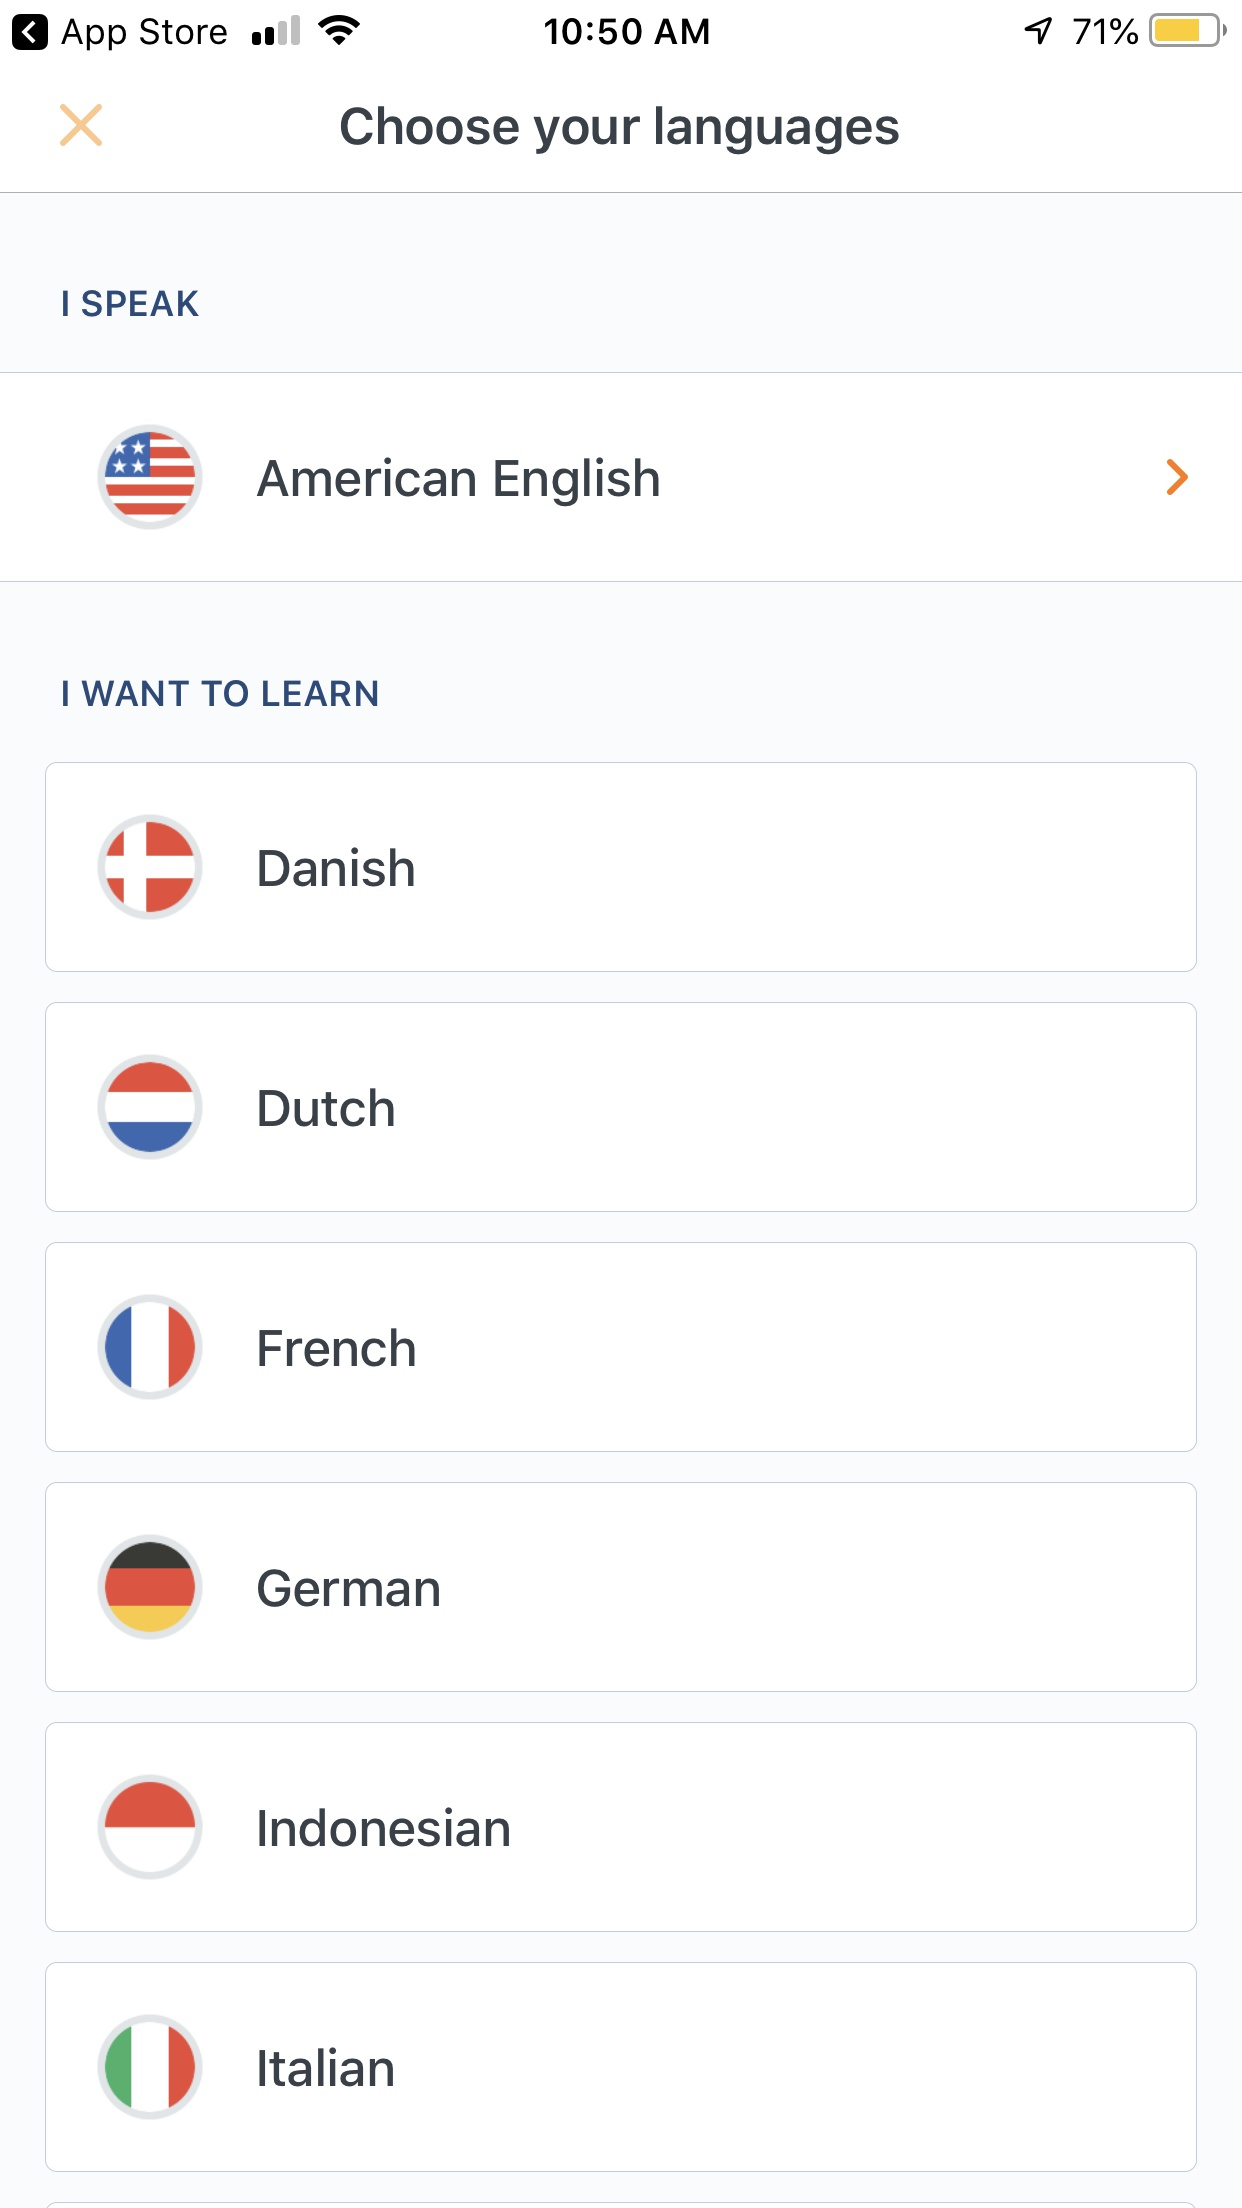Icon: (61, 105, 105, 149), (1166, 459, 1189, 496)
Image: (97, 1054, 205, 1162), (97, 1294, 205, 1401), (97, 814, 205, 921), (99, 2014, 205, 2122), (99, 1535, 205, 1641), (99, 1774, 205, 1880), (99, 425, 205, 529)
Text: (341, 106, 899, 156), (256, 456, 660, 508), (259, 1808, 511, 1849), (64, 679, 379, 708), (258, 1570, 440, 1607), (259, 846, 416, 889), (259, 1327, 416, 1368), (259, 1087, 396, 1128), (259, 2047, 394, 2088), (64, 290, 200, 318)
UpperTaskBar: (2, 2, 1242, 53)
